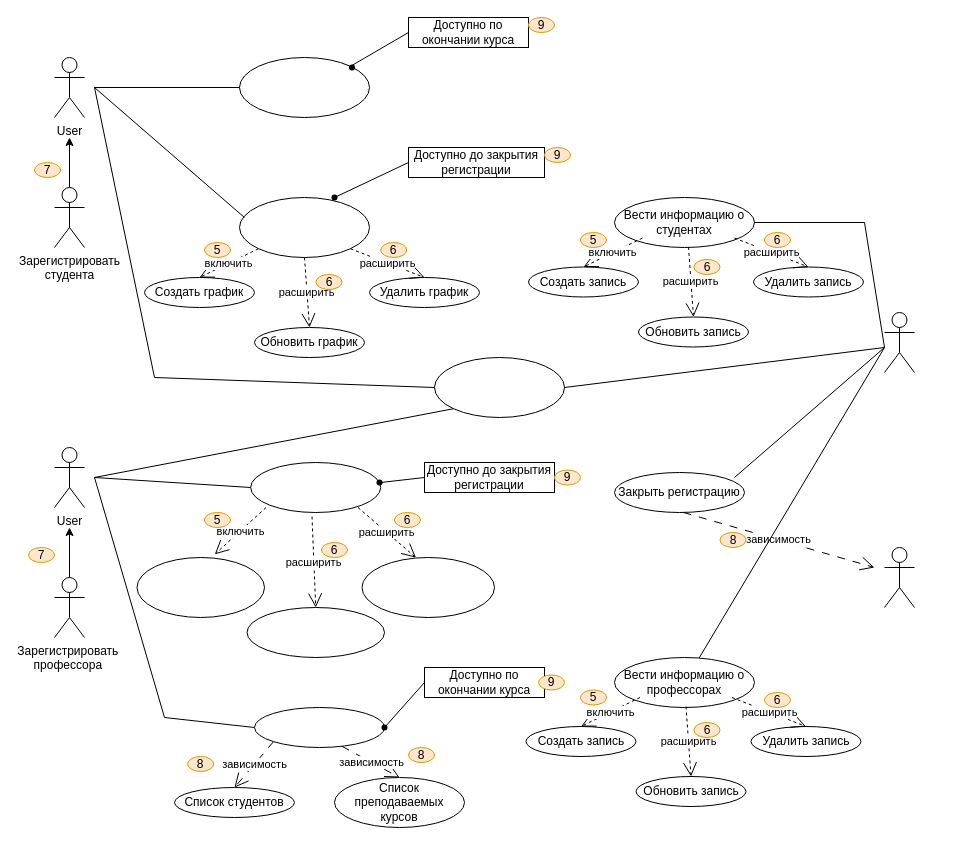
Image size: 970x845. Some labels were removed from this diagram. Here are the shapes that lost their labels. From the top down, the box of each, then its label:
(238, 56, 370, 118): Просмотреть табель успеваемости
(238, 196, 370, 258): Зарегистрироваться на курсы
(884, 312, 914, 372): Регистратор
(434, 356, 564, 418): Войти в систему
(250, 462, 381, 512): Выбрать курсы для преподавания
(136, 556, 264, 618): Создать график преподаваемых курсов
(361, 556, 494, 618): Удалить график преподаваемых курсов
(884, 546, 914, 608): Расчетная система
(246, 606, 384, 658): Обновить график преподаваемых курсов
(254, 706, 384, 748): Проставить оценки
